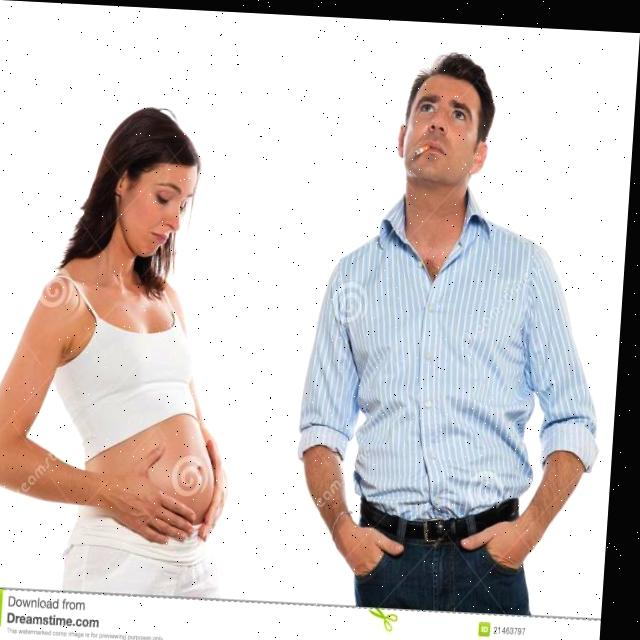cigarette: (416, 139, 433, 154)
